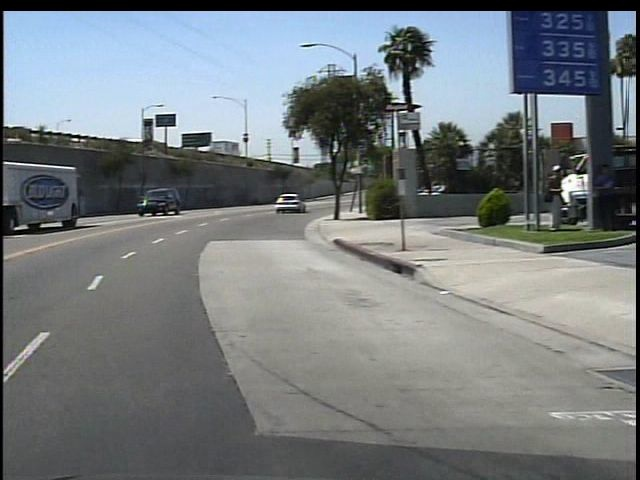person: (535, 163, 562, 234)
